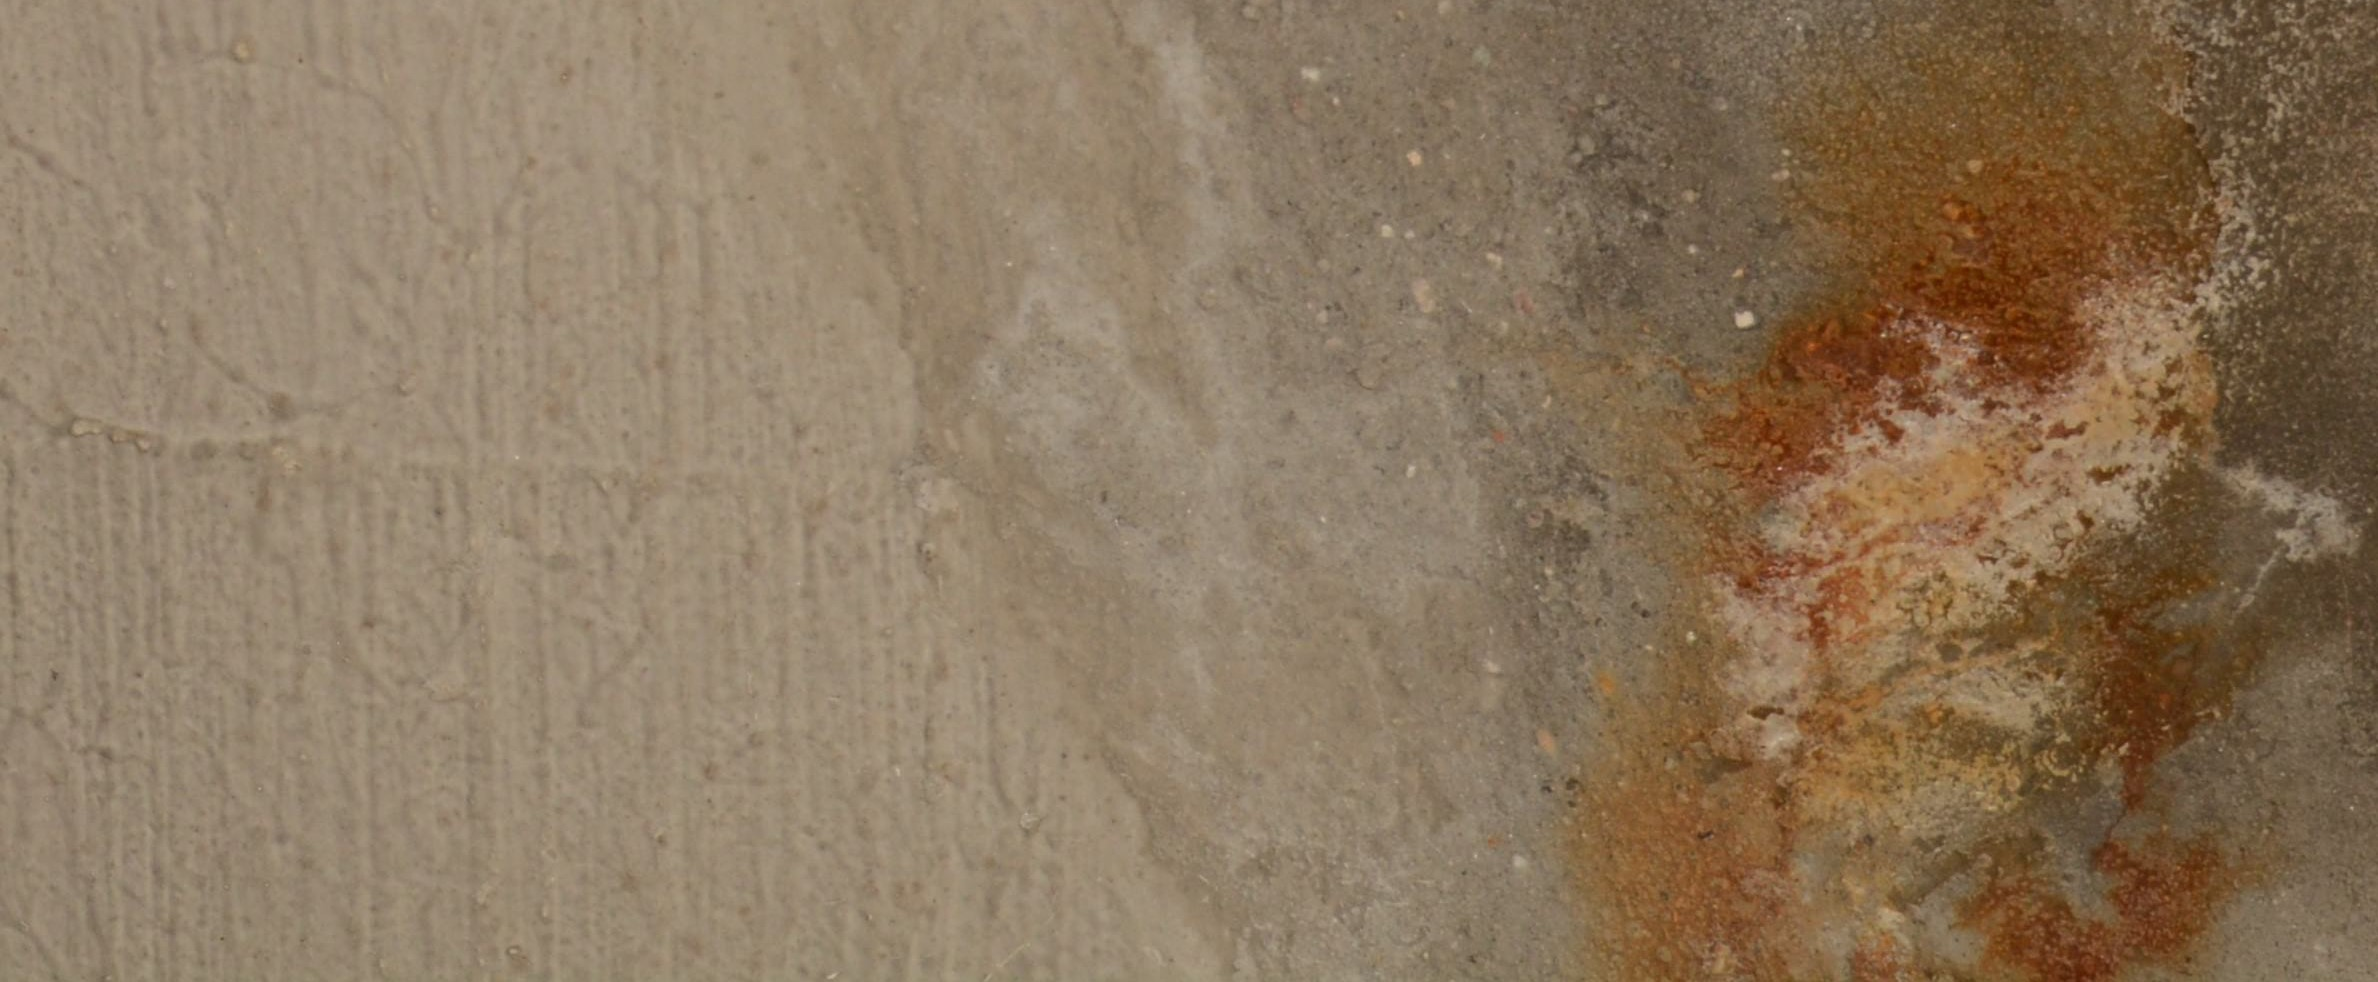Corrosion: (1520, 2, 2378, 982)
